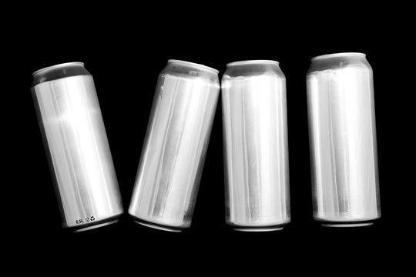Can: (29, 60, 125, 234), (127, 58, 221, 232), (305, 51, 383, 228), (221, 57, 294, 233)
